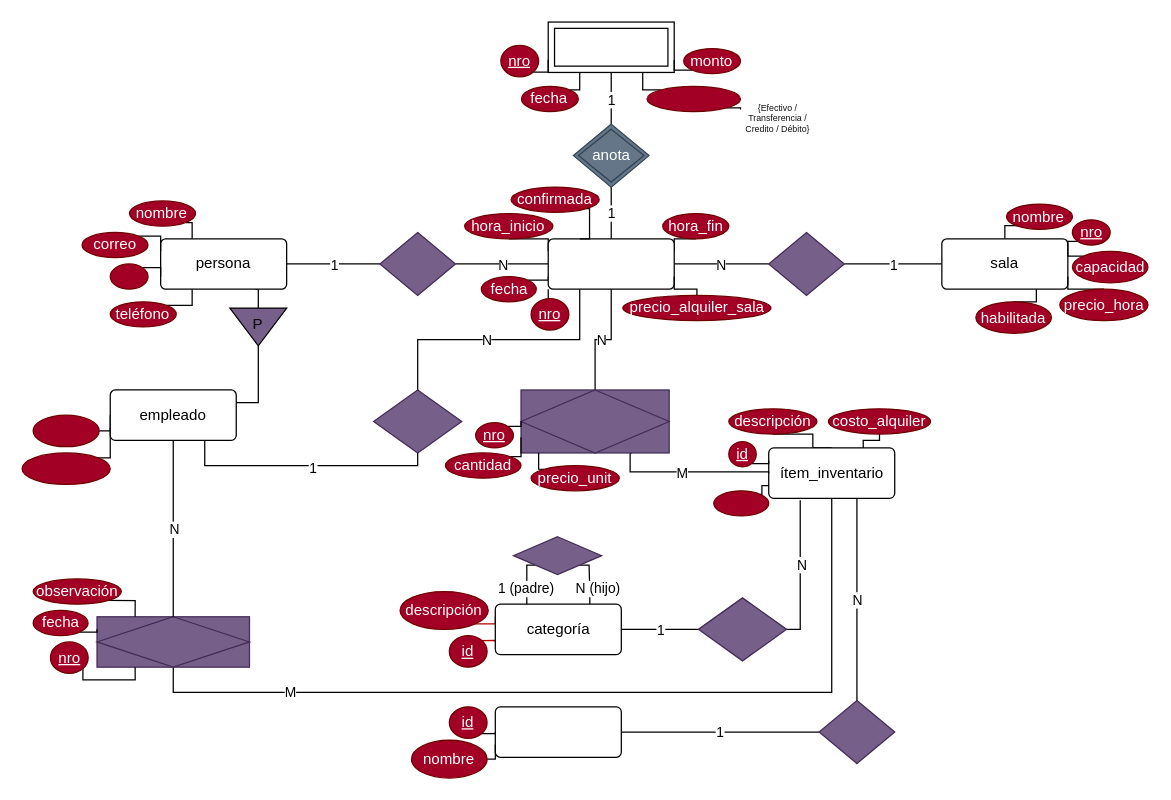
Image size: 1171x800. Some labels were removed from this diagram. Each missing label, with the centre of its shape:
asigna: (x=805, y=263)
contiene: (x=557, y=555)
contraseña: (x=65, y=468)
control_inventario: (x=172, y=641)
dni: (x=128, y=276)
fabrica: (x=856, y=731)
fabricante: (x=557, y=731)
gestiona: (x=417, y=421)
hace: (x=417, y=263)
legajo: (x=65, y=430)
medio_pago: (x=693, y=98)
pago: (x=610, y=46)
pertenece: (x=742, y=629)
reserva: (x=610, y=263)
reserva_inventario: (x=594, y=421)
stock: (x=741, y=503)
